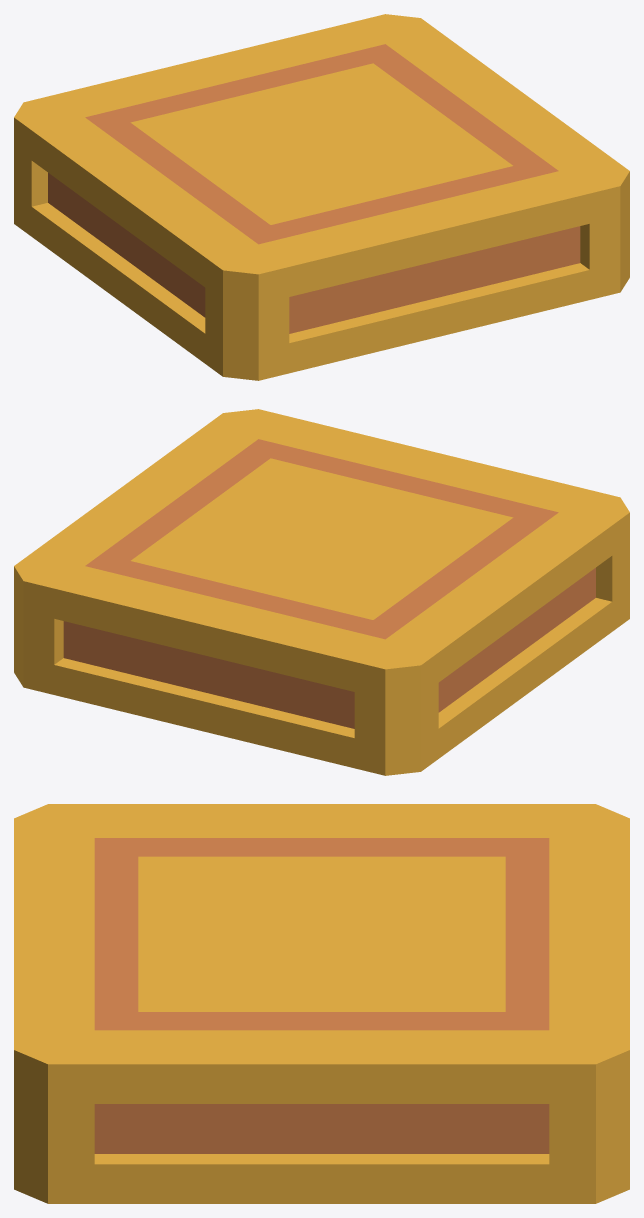
Rendered from blockMoving.fbx.
The picture shows the model from 3 angles, top to bottom: view 1: azimuth 30°, elevation 25°; view 2: azimuth 150°, elevation 25°; view 3: azimuth 270°, elevation 25°; orthographic projection. The views are drawn at different scales.
Parts seen in each view (by area): view 1: blockMoving; view 2: blockMoving; view 3: blockMoving.
Part boxes in pixels (left/top/right/bottom): blockMoving: left=14, top=14, right=629, bottom=380; blockMoving: left=14, top=409, right=629, bottom=775; blockMoving: left=14, top=804, right=629, bottom=1203.
Bounding box in the file's own units: 10 × 2.5 × 10.
